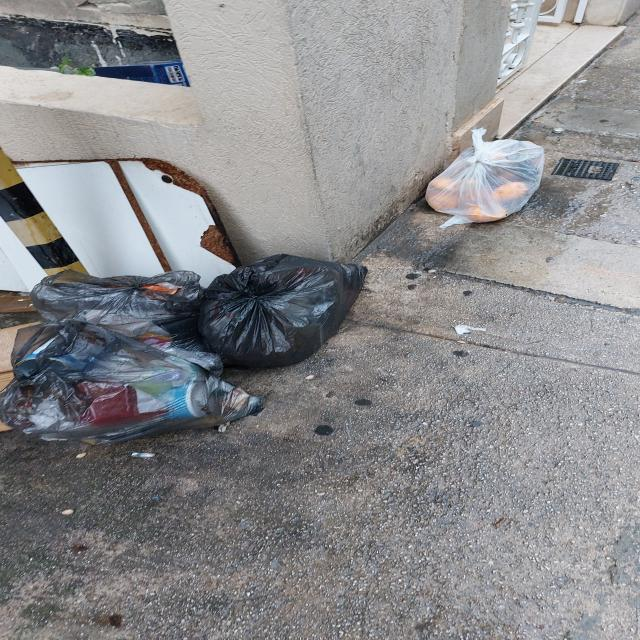Mixed Waste -Black Bag-: (19, 320, 266, 454), (193, 251, 372, 373), (32, 271, 204, 332)
Organic Waste -White Bag-: (426, 129, 552, 226)
Other: (2, 324, 40, 405)
